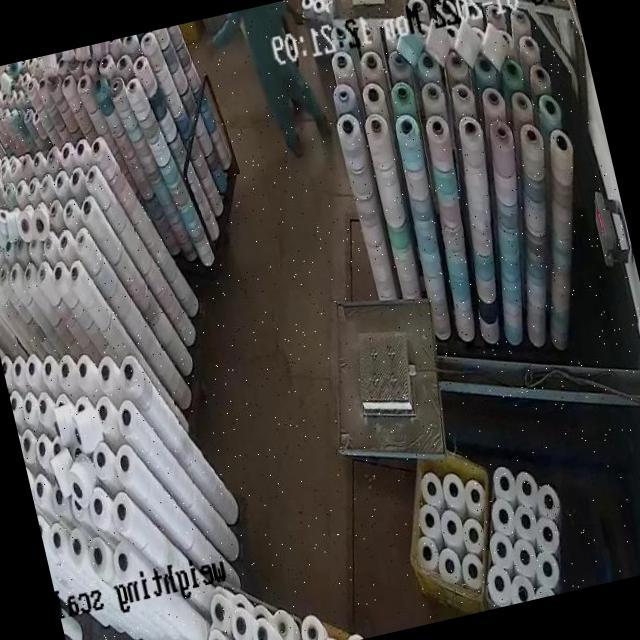person: (251, 0, 320, 159)
